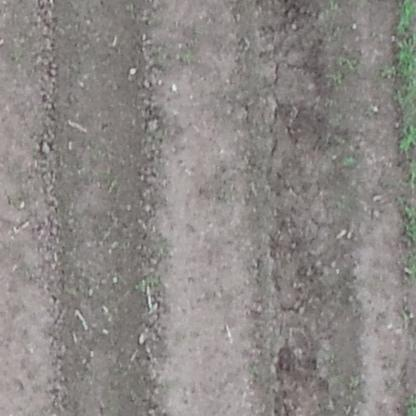corn: (396, 3, 415, 154)
